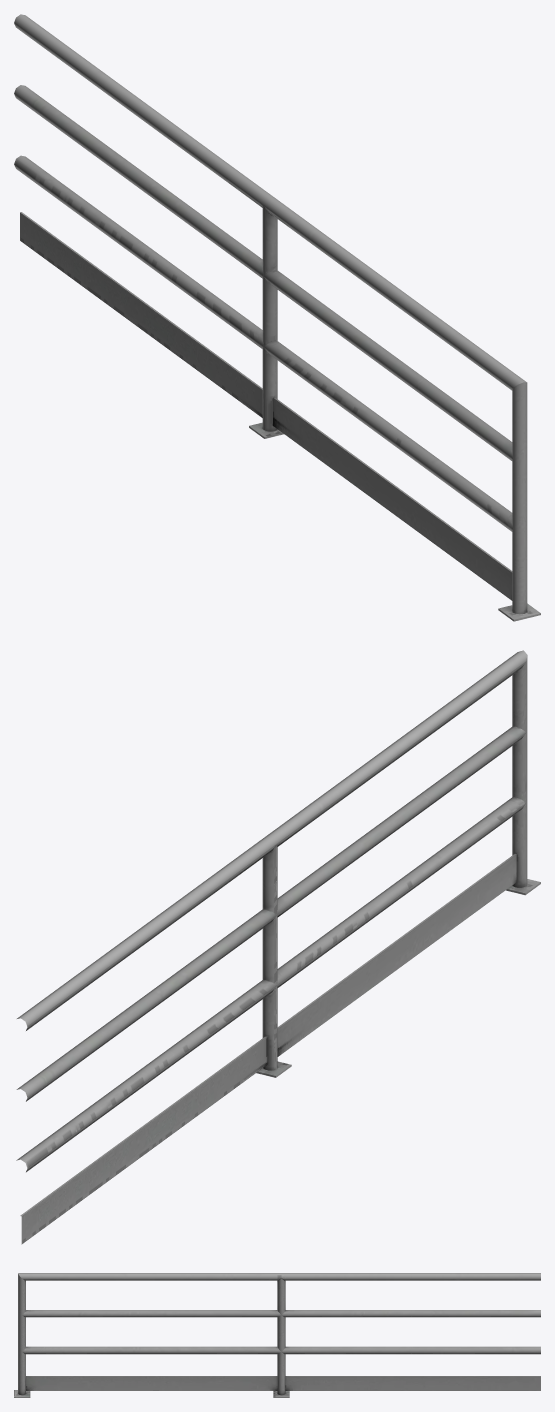
The picture shows the model from 3 angles, top to bottom: view 1: azimuth 30°, elevation 25°; view 2: azimuth 150°, elevation 25°; view 3: azimuth 270°, elevation 25°; orthographic projection. The views are drawn at different scales.
Visible parts, largest first — view 1: body0_model0_lod0_mesh0; view 2: body0_model0_lod0_mesh0; view 3: body0_model0_lod0_mesh0.
Part boxes in pixels (bbox=[...]): body0_model0_lod0_mesh0: bbox=[14, 14, 540, 621]; body0_model0_lod0_mesh0: bbox=[16, 650, 540, 1244]; body0_model0_lod0_mesh0: bbox=[14, 1273, 540, 1397].
Size of the model in its own units: 4 by 33 by 130.
Materials: 1 (1 with a texture image).
